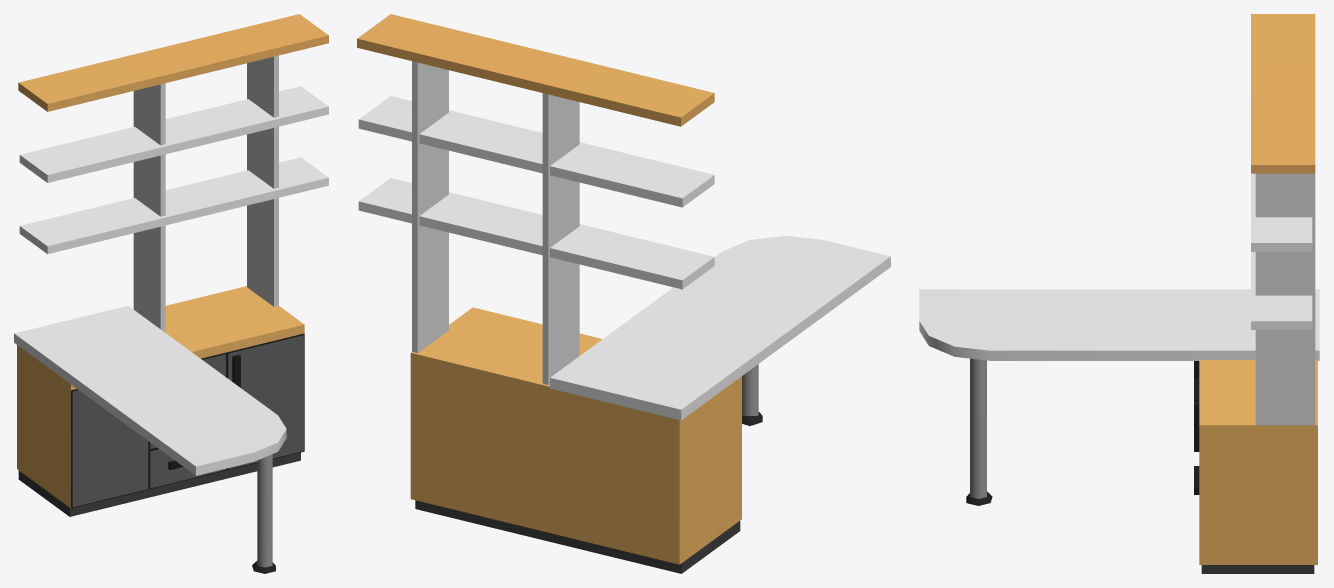
File: office_table_018.glb
3 renders of one model, left to right at view 1: azimuth 30°, elevation 25°; view 2: azimuth 150°, elevation 25°; view 3: azimuth 270°, elevation 25°, orthographic. The views are drawn at different scales.
Parts seen in each view (by area): view 1: office_table_018; view 2: office_table_018; view 3: office_table_018.
Boxes of the visible parts, left/top/right/bottom form: office_table_018: left=14, top=14, right=328, bottom=573; office_table_018: left=357, top=14, right=890, bottom=573; office_table_018: left=919, top=14, right=1319, bottom=573.
Size of the model in its own units: 1.67 by 2.24 by 1.86.
Materials: 1 (1 with a texture image).
